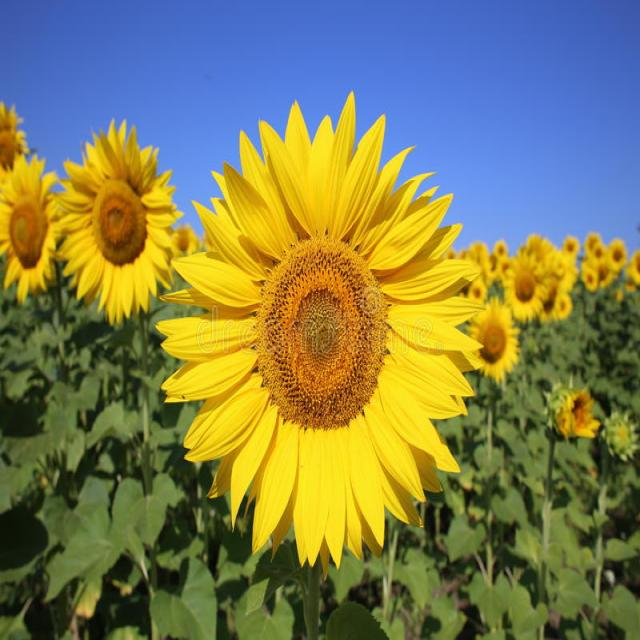sunflower: (172, 113, 485, 577), (64, 126, 187, 322), (0, 154, 75, 304), (464, 297, 526, 378), (504, 253, 556, 328), (610, 239, 629, 271)
